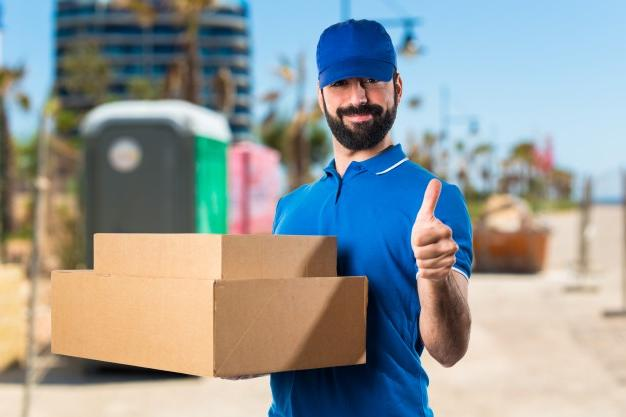thumbsup: (411, 178, 459, 281)
